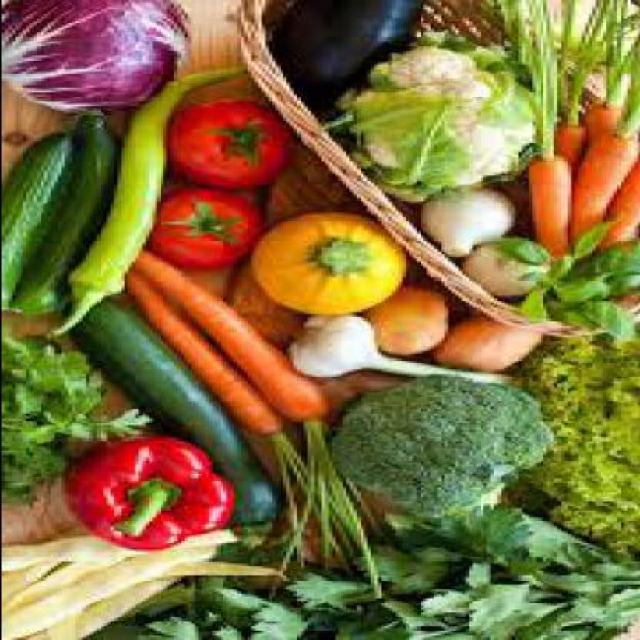BIODEGRADABLE: (134, 503, 638, 639), (49, 63, 246, 337), (70, 294, 285, 543), (134, 247, 334, 418), (338, 25, 534, 187), (335, 372, 559, 513), (4, 328, 158, 504), (130, 274, 288, 434), (7, 106, 124, 312), (535, 323, 639, 554), (4, 540, 231, 638), (3, 0, 197, 111), (67, 436, 239, 550), (288, 313, 528, 382), (302, 418, 395, 596), (250, 210, 412, 312), (274, 0, 426, 106), (267, 432, 351, 598), (4, 129, 81, 305), (528, 0, 580, 254), (4, 570, 179, 638), (172, 95, 296, 187), (563, 0, 626, 169), (3, 522, 243, 566), (572, 80, 638, 240), (31, 532, 124, 638), (150, 188, 268, 268), (586, 0, 639, 151), (421, 183, 517, 254), (365, 275, 450, 353), (440, 310, 545, 370), (468, 236, 552, 296), (597, 152, 638, 252), (572, 237, 638, 298), (144, 554, 296, 580), (365, 547, 458, 587), (464, 502, 531, 548), (486, 598, 562, 636), (249, 598, 320, 638), (464, 587, 534, 624), (580, 296, 638, 338), (573, 219, 622, 259), (211, 589, 267, 617), (144, 614, 208, 638), (496, 235, 546, 263), (552, 280, 608, 302), (109, 405, 154, 432), (524, 280, 551, 314), (214, 619, 246, 638), (549, 256, 576, 275)
